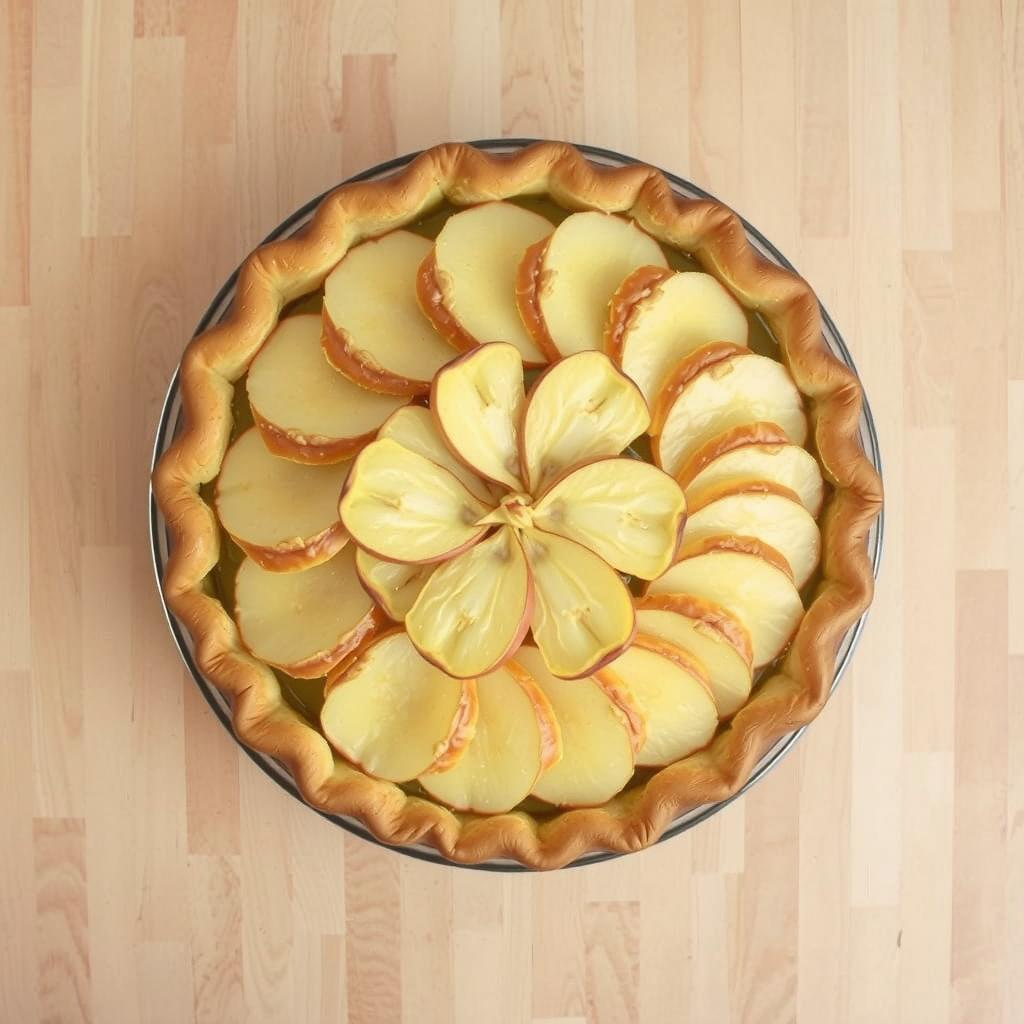cake: (144, 134, 887, 884)
